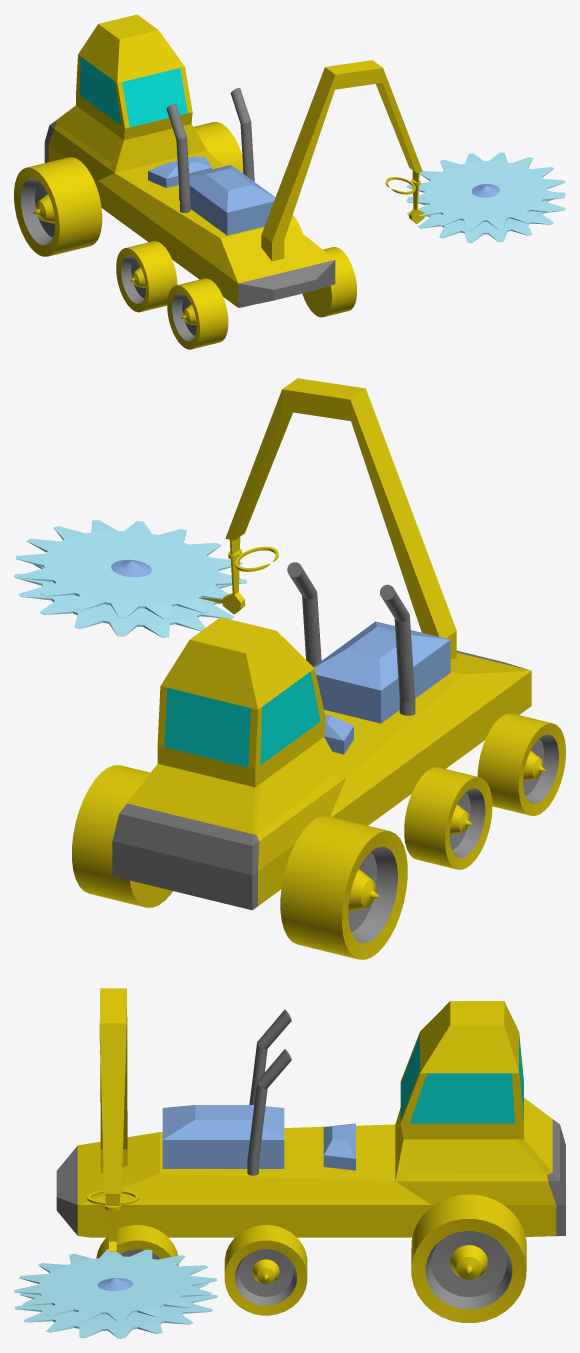
Rendered from abatteuse (1).fbx.
3 views of the same model, one above another, from view 1: azimuth 30°, elevation 25°; view 2: azimuth 150°, elevation 25°; view 3: azimuth 270°, elevation 25° (orthographic). The views are drawn at different scales.
Parts seen in each view (by area): view 1: corps abatteuse, roue, Cylinder.010, Cube.001; view 2: corps abatteuse, roue, Cylinder.010, Cube.001; view 3: corps abatteuse, roue, Cylinder.010, Cube.001.
Boxes of the visible parts, <box> form: corps abatteuse: <box>44,14,335,307</box>; roue: <box>14,122,356,349</box>; Cylinder.010: <box>406,152,565,242</box>; Cube.001: <box>261,60,430,261</box>; corps abatteuse: <box>112,562,531,910</box>; roue: <box>72,713,565,959</box>; Cylinder.010: <box>14,520,246,637</box>; Cube.001: <box>201,378,456,658</box>; corps abatteuse: <box>56,1001,565,1237</box>; roue: <box>96,1194,526,1322</box>; Cylinder.010: <box>14,1249,217,1338</box>; Cube.001: <box>87,988,138,1251</box>.
Size of the model in its own units: 967 by 601 by 955.
